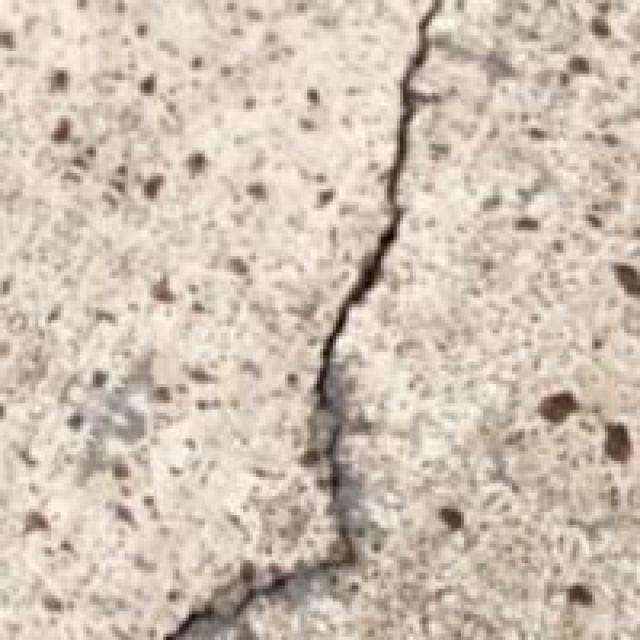crack: (166, 0, 464, 637)
